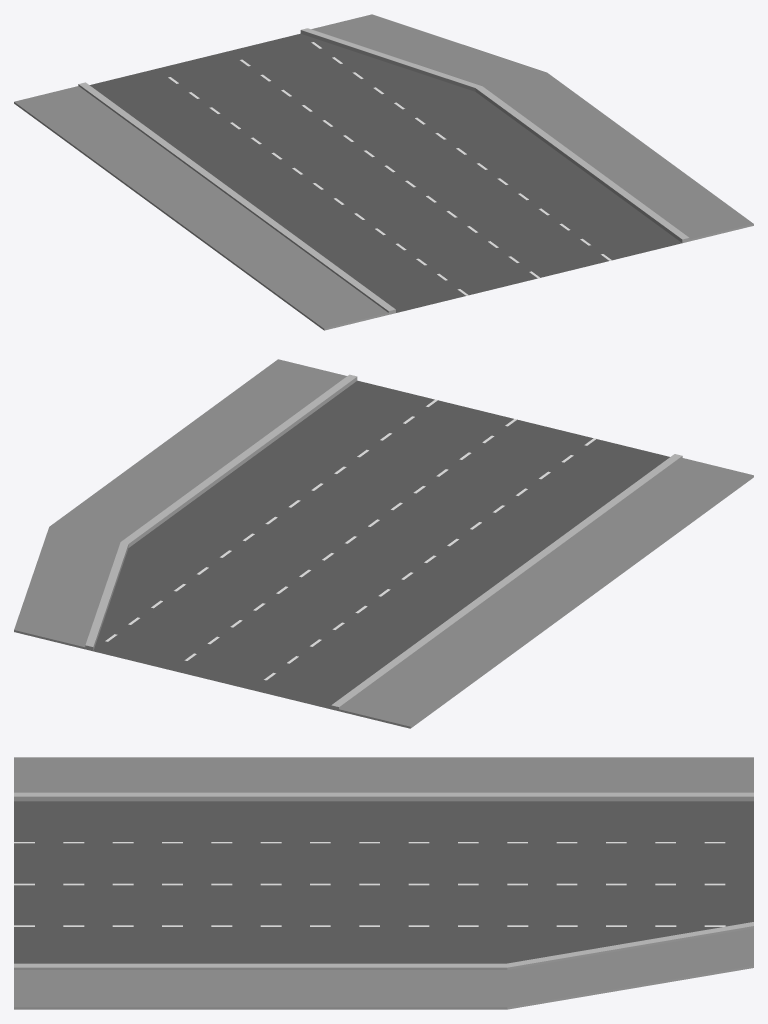
File: street_4to3.fbx
3 views of the same model, one above another, from view 1: azimuth 30°, elevation 25°; view 2: azimuth 150°, elevation 25°; view 3: azimuth 270°, elevation 25° (orthographic). The views are drawn at different scales.
Visible parts, largest first — view 1: street_4to3; view 2: street_4to3; view 3: street_4to3.
Boxes of the visible parts, left/top/right/bottom form: street_4to3: left=14, top=14, right=753, bottom=330; street_4to3: left=14, top=359, right=753, bottom=728; street_4to3: left=14, top=757, right=753, bottom=1009.
Bounding box in the file's own units: 24 × 0.2 × 30.01.
